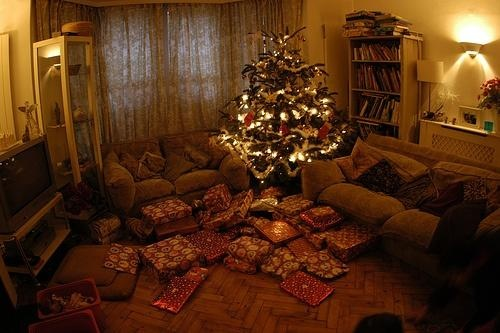sofa: (302, 133, 500, 286), (100, 130, 251, 217)
tvmonitor: (1, 135, 59, 234)
